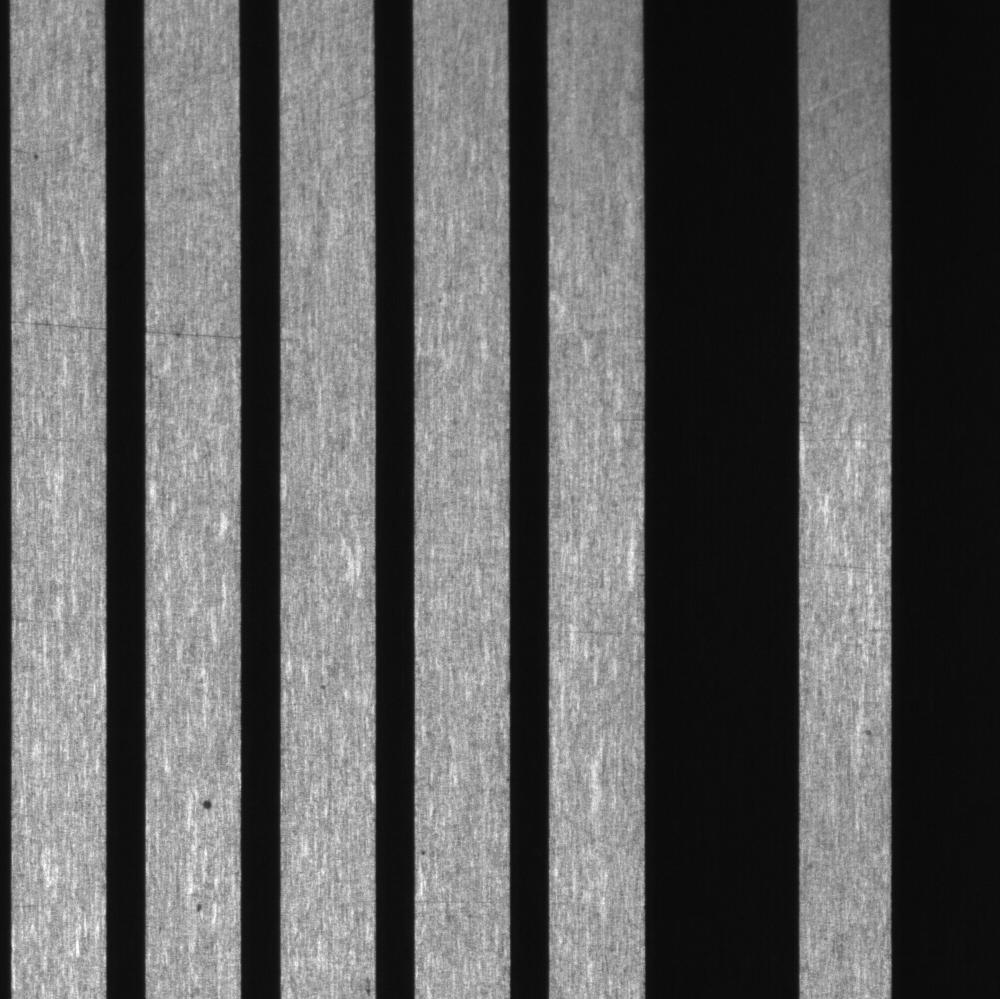Etching: (188, 889, 209, 925)
Pinhole: (185, 782, 228, 826)
Scar: (147, 68, 237, 131), (28, 116, 99, 181), (12, 300, 106, 346), (148, 312, 239, 358), (810, 150, 890, 197), (556, 613, 643, 652), (12, 608, 101, 641), (818, 540, 878, 585), (811, 424, 893, 455), (602, 410, 649, 438)
